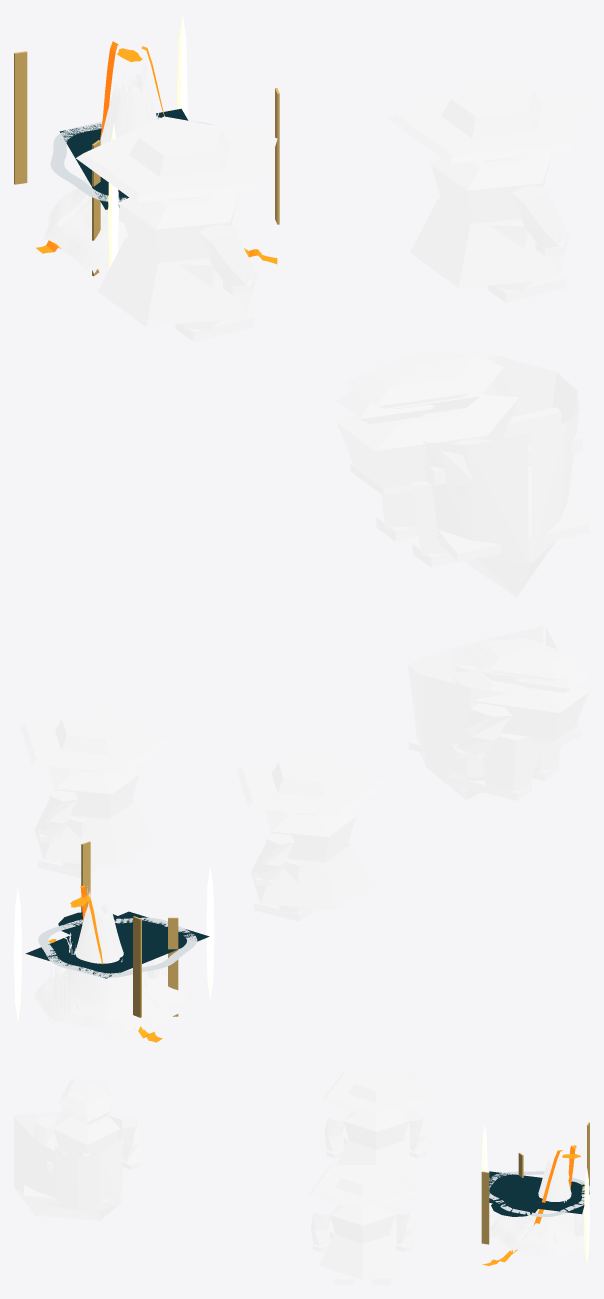
Rendered from ile-braise-v5-leger.glb.
3 renders of one model, top to bottom at view 1: azimuth 30°, elevation 25°; view 2: azimuth 150°, elevation 25°; view 3: azimuth 270°, elevation 25°, orthographic. The views are drawn at different scales.
Parts seen in each view (by area): view 1: ile_anime3.008, ile_anime2.010, ile_anime0.010, ile_anime1.010, ile_corps.010, ile_vitres.006, ile_lumieres.010, ile_libre0.008; view 2: ile_anime2.010, ile_anime3.008, ile_anime1.010, ile_corps.010, ile_anime0.010, ile_libre0.008, ile_lumieres.010, ile_vitres.006; view 3: ile_anime3.008, ile_anime2.010, ile_anime0.010, ile_anime1.010, ile_corps.010, ile_libre0.008, ile_lumieres.010, ile_vitres.006.
Boxes of the visible parts, left/top/right/bottom form: ile_anime3.008: left=388, top=77, right=589, bottom=302; ile_anime2.010: left=76, top=116, right=277, bottom=341; ile_anime0.010: left=409, top=355, right=588, bottom=597; ile_anime1.010: left=336, top=351, right=518, bottom=567; ile_corps.010: left=43, top=55, right=233, bottom=273; ile_vitres.006: left=14, top=51, right=279, bottom=276; ile_lumieres.010: left=36, top=15, right=277, bottom=267; ile_libre0.008: left=50, top=108, right=212, bottom=209; ile_anime2.010: left=236, top=752, right=387, bottom=921; ile_anime3.008: left=20, top=709, right=171, bottom=877; ile_anime1.010: left=445, top=638, right=589, bottom=800; ile_corps.010: left=34, top=886, right=194, bottom=1037; ile_anime0.010: left=408, top=626, right=582, bottom=799; ile_libre0.008: left=25, top=911, right=209, bottom=978; ile_lumieres.010: left=14, top=866, right=214, bottom=1042; ile_vitres.006: left=81, top=841, right=178, bottom=1017; ile_anime3.008: left=308, top=1165, right=416, bottom=1284; ile_anime2.010: left=322, top=1071, right=429, bottom=1177; ile_anime0.010: left=14, top=1112, right=122, bottom=1220; ile_anime1.010: left=33, top=1079, right=141, bottom=1206; ile_corps.010: left=489, top=1155, right=589, bottom=1257; ile_libre0.008: left=489, top=1171, right=589, bottom=1216; ile_lumieres.010: left=481, top=1124, right=589, bottom=1265; ile_vitres.006: left=481, top=1122, right=589, bottom=1244.
Size of the model in its own units: 5.76 by 2.7 by 10.64.
